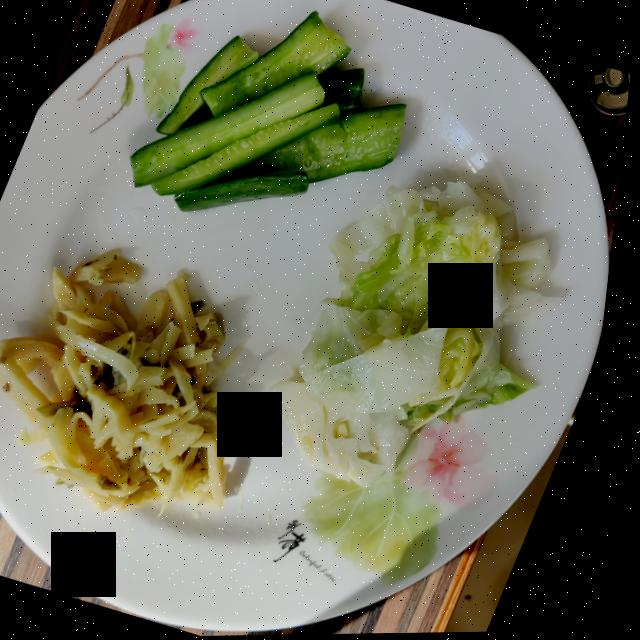cabbage: (282, 183, 566, 488)
coin: (589, 66, 633, 118)
cucumber: (134, 13, 408, 211)
